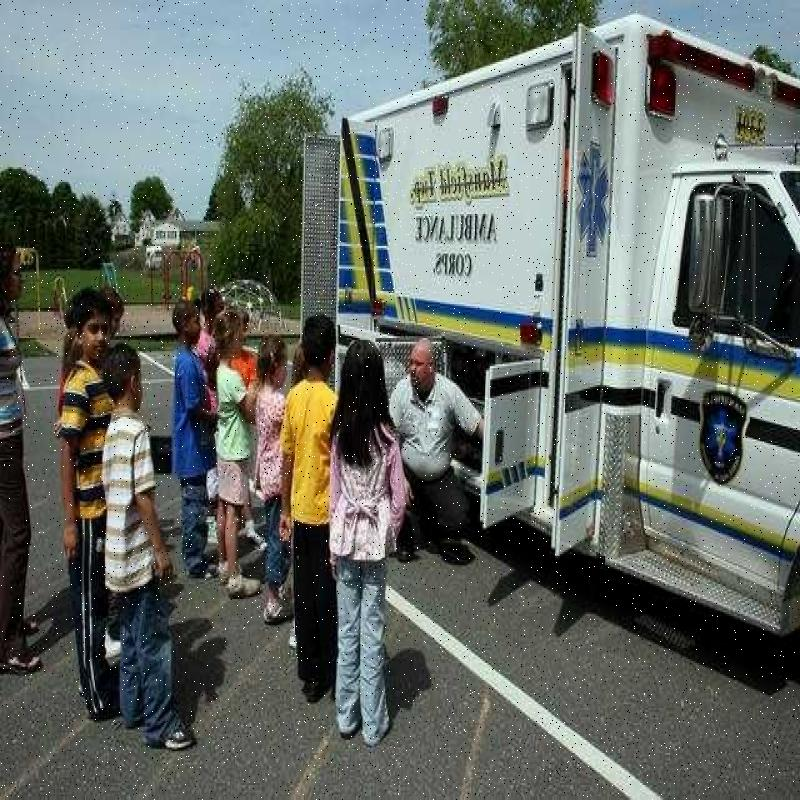AmbulanceSiren: (634, 7, 800, 133)
